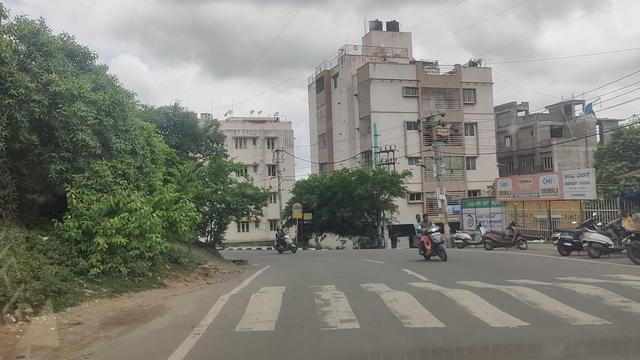SpeedBump: (244, 279, 634, 322)
